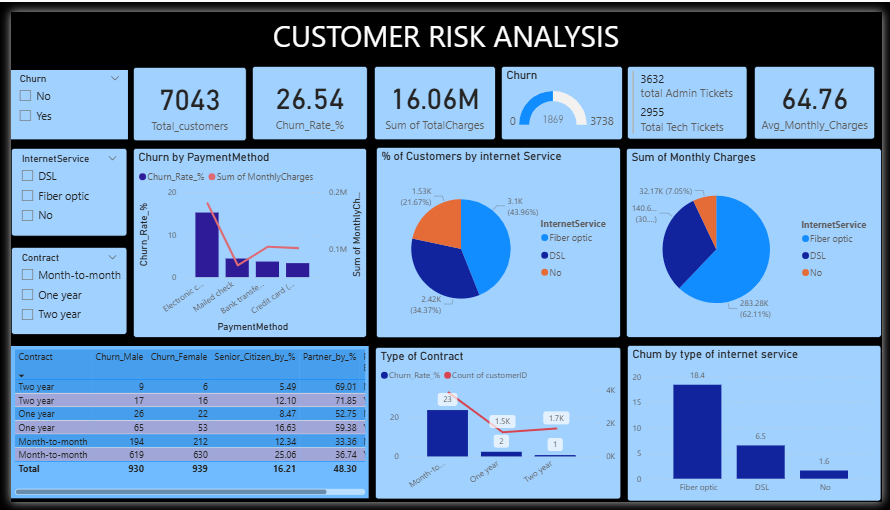

What the dashboard file says about the page in this screenshot:
{"tool":"powerbi","page":{"name":"Customer Risk Analysis","canvas":[1280,720],"ordinal":2},"visuals":[{"type":"card","fields":{"Values":["01 Churn-Dataset.Churn_Rate_%"]},"box":[354.3,79.4,170.1,109.1],"z":1000},{"type":"textbox","box":[0,0,1279.7,72.1],"z":2000},{"type":"card","fields":{"Values":["Sum(01 Churn-Dataset.TotalCharges)"]},"box":[534.3,79.4,178.6,109.1],"z":3000},{"type":"gauge","title":"Churn","fields":{"Y":["01 Churn-Dataset.Customers_at_Risk"]},"box":[720,79.4,178.6,109.1],"z":4000},{"type":"slicer","fields":{"Values":["01 Churn-Dataset.InternetService"]},"box":[0,199.8,171.5,130.4],"z":5000},{"type":"card","fields":{"Values":["01 Churn-Dataset.Total_customers"]},"box":[180,80.8,167,109.1],"z":6000},{"type":"columnChart","title":"Chum by type of internet service","fields":{"Category":["01 Churn-Dataset.InternetService"],"Y":["01 Churn-Dataset.Churn_Rate_%"]},"box":[905.7,490.4,374.2,229.6],"z":7000},{"type":"pieChart","title":"Sum of Monthly Charges","fields":{"Category":["01 Churn-Dataset.InternetService"],"Y":["Sum(01 Churn-Dataset.MonthlyCharges)"]},"box":[904.3,199.8,375.6,279.2],"z":8000},{"type":"pieChart","title":"% of Customers by internet Service","fields":{"Category":["01 Churn-Dataset.InternetService"],"Y":["CountNonNull(01 Churn-Dataset.customerID)"]},"box":[537.2,198.4,360,280.6],"z":9000},{"type":"lineClusteredColumnComboChart","title":"Churn by PaymentMethod","fields":{"Category":["01 Churn-Dataset.PaymentMethod"],"Y2":["Sum(01 Churn-Dataset.MonthlyCharges)"],"Y":["01 Churn-Dataset.Churn_Rate_%"]},"box":[180,199.8,344.4,279.2],"z":10000},{"type":"slicer","fields":{"Values":["01 Churn-Dataset.Churn"]},"box":[0,85,172,102],"z":11000},{"type":"slicer","fields":{"Values":["01 Churn-Dataset.Contract"]},"box":[0,345.8,171.5,129],"z":12000},{"type":"multiRowCard","fields":{"Values":["Sum(01 Churn-Dataset.numAdminTickets)","Sum(01 Churn-Dataset.numTechTickets)"]},"box":[905.7,79.4,177.2,107.7],"z":13000},{"type":"lineStackedColumnComboChart","title":"Type of  Contract","fields":{"Y":["01 Churn-Dataset.Churn_Rate_%"],"Category":["01 Churn-Dataset.Contract"],"Y2":["CountNonNull(01 Churn-Dataset.customerID)"]},"box":[535.7,493.2,362,223.9],"z":14000},{"type":"tableEx","fields":{"Values":["01 Churn-Dataset.Contract","01 Churn-Dataset.Churn_Male","01 Churn-Dataset.Churn_Female","01 Churn-Dataset.Senior_Citizen_by_%","01 Churn-Dataset.Partner_by_%","01 Churn-Dataset.PaperlessBilling"]},"box":[0,490.9,525.8,223.9],"z":15000},{"type":"card","fields":{"Values":["Churn-Dataset.Avg_Monthly_Charges"]},"box":[1092.5,79.3,178.5,108.2],"z":15001}]}

Visuals, with their boxes in screenshot pixels (x1, y1, x2, y2), scaled from the page's 1280x720 canvas onto the 890x510 screenshot:
card - 01 Churn-Dataset.Churn_Rate_%: <box>246,56,365,134</box>
textbox: <box>0,0,889,51</box>
card - Sum(01 Churn-Dataset.TotalCharges): <box>372,56,496,134</box>
"Churn" gauge: <box>501,56,625,134</box>
slicer - 01 Churn-Dataset.InternetService: <box>0,142,119,234</box>
card - 01 Churn-Dataset.Total_customers: <box>125,57,241,135</box>
"Chum by type of internet service" columnChart: <box>630,347,889,509</box>
"Sum of Monthly Charges" pieChart: <box>629,142,889,339</box>
"% of Customers by internet Service" pieChart: <box>374,141,624,339</box>
"Churn by PaymentMethod" lineClusteredColumnComboChart: <box>125,142,365,339</box>
slicer - 01 Churn-Dataset.Churn: <box>0,60,120,132</box>
slicer - 01 Churn-Dataset.Contract: <box>0,245,119,336</box>
multiRowCard - Sum(01 Churn-Dataset.numAdminTickets) x Sum(01 Churn-Dataset.numTechTickets): <box>630,56,753,133</box>
"Type of  Contract" lineStackedColumnComboChart: <box>372,349,624,508</box>
tableEx - 01 Churn-Dataset.Contract x 01 Churn-Dataset.Churn_Male: <box>0,348,366,506</box>
card - Churn-Dataset.Avg_Monthly_Charges: <box>760,56,884,133</box>
